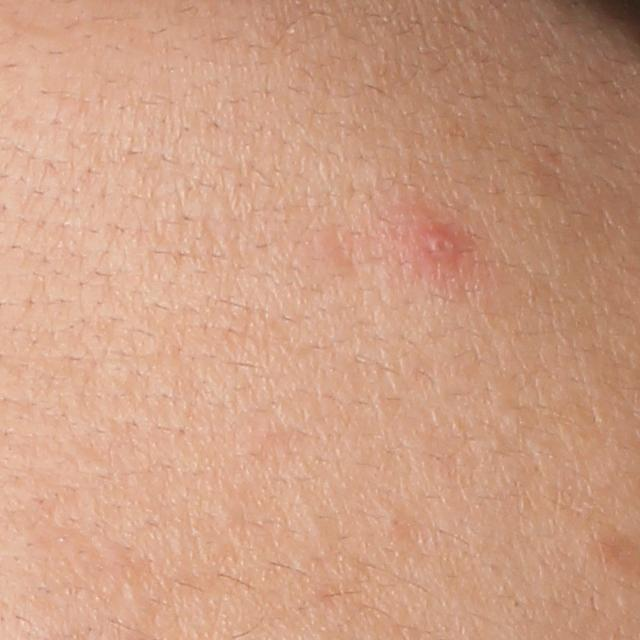papule: (419, 223, 464, 264)
